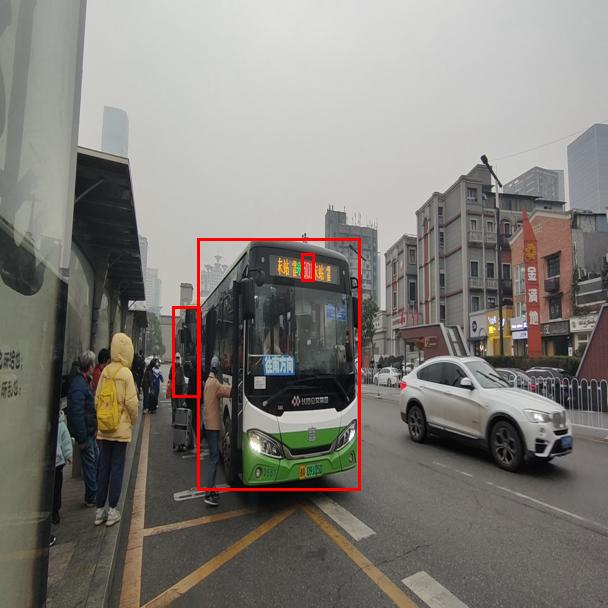bus: (197, 238, 360, 490), (172, 306, 200, 397)
screen: (301, 253, 314, 281)
